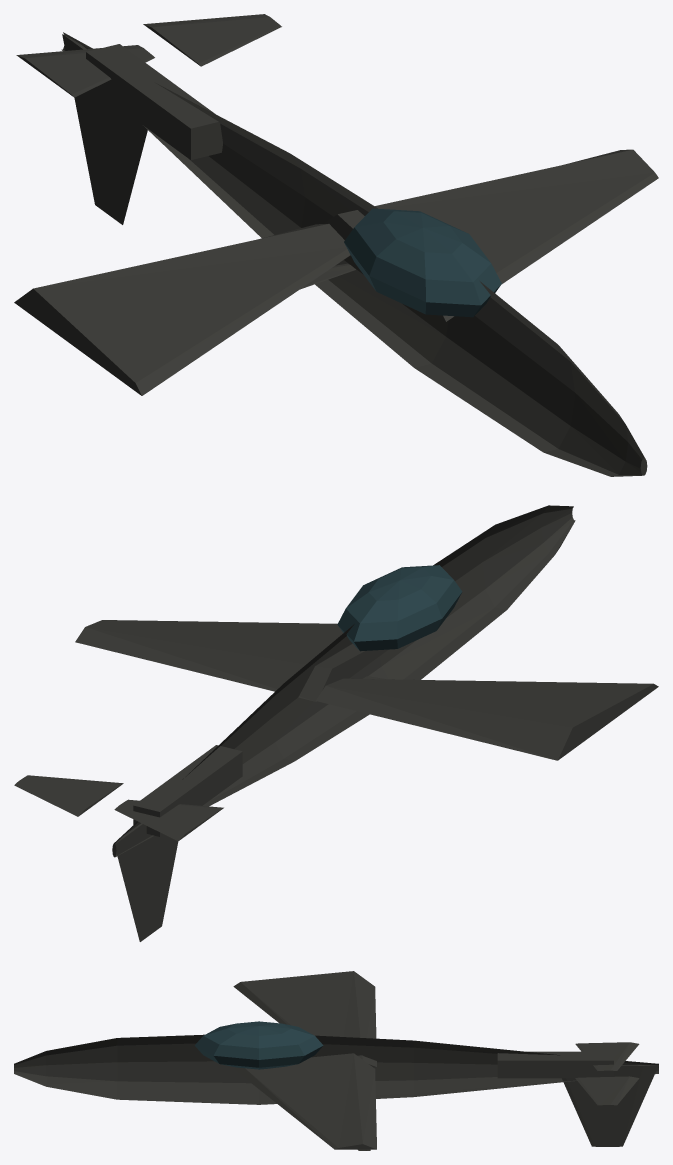
File: f16v_Destroyed.glb
3 renders of one model, top to bottom at view 1: azimuth 30°, elevation 25°; view 2: azimuth 150°, elevation 25°; view 3: azimuth 270°, elevation 25°, orthographic. The views are drawn at different scales.
Parts seen in each view (by area): view 1: Fuselage, Wing_L, Wing_R, Cockpit, TailBoom, Rudder, Elevator_R, Elevator_L; view 2: Fuselage, Wing_L, Wing_R, Cockpit, Rudder, TailBoom, Elevator_R, Elevator_L; view 3: Fuselage, Wing_R, Wing_L, Cockpit, Rudder, TailBoom, Elevator_R, Elevator_L.
Part boxes in pixels (<box>): Fuselage: <box>61,32,647,476</box>; Wing_L: <box>14,223,350,395</box>; Wing_R: <box>324,149,658,321</box>; Cockpit: <box>344,208,501,317</box>; TailBoom: <box>86,44,222,159</box>; Rudder: <box>62,34,147,224</box>; Elevator_R: <box>143,14,281,66</box>; Elevator_L: <box>16,45,154,97</box>; Fuselage: <box>112,505,575,857</box>; Wing_L: <box>316,678,658,760</box>; Wing_R: <box>75,620,387,701</box>; Cockpit: <box>337,565,462,651</box>; Rudder: <box>115,823,178,941</box>; TailBoom: <box>133,745,242,836</box>; Elevator_R: <box>14,775,123,816</box>; Elevator_L: <box>114,799,223,841</box>; Fuselage: <box>14,1034,658,1104</box>; Wing_R: <box>233,1053,376,1149</box>; Wing_L: <box>233,971,376,1067</box>; Cockpit: <box>195,1021,323,1069</box>; Rudder: <box>562,1065,658,1146</box>; TailBoom: <box>497,1051,613,1078</box>; Elevator_R: <box>575,1076,639,1105</box>; Elevator_L: <box>575,1042,639,1071</box>.
Bounding box in the file's own units: 9.07 × 3.1 × 15.03.
